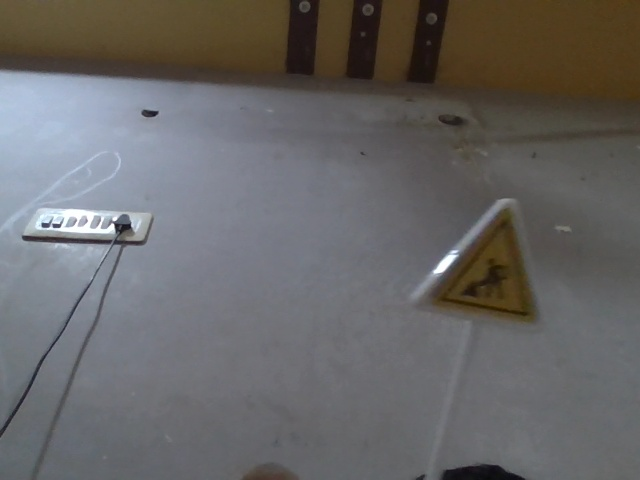workinprogress: (406, 189, 577, 355)
